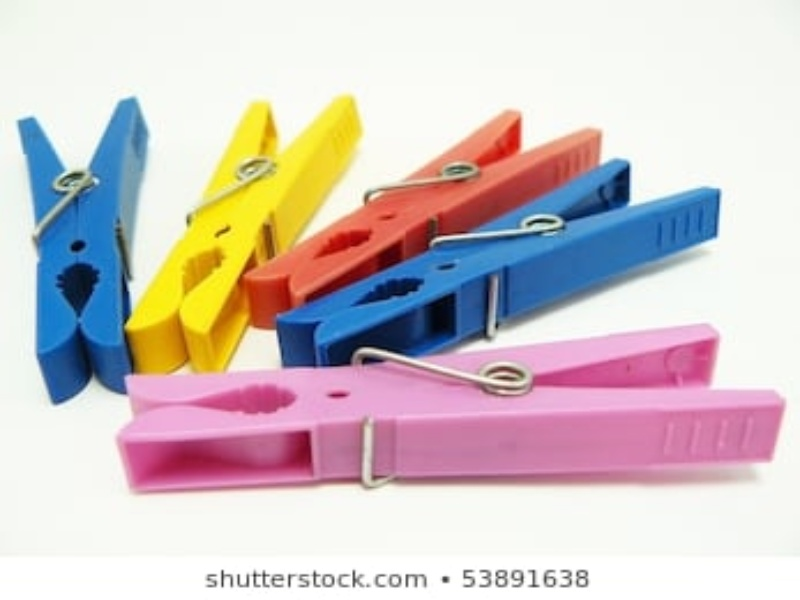plastic-peg: (113, 323, 787, 496), (276, 154, 735, 365), (243, 106, 606, 330), (124, 93, 370, 372), (11, 94, 157, 406)
